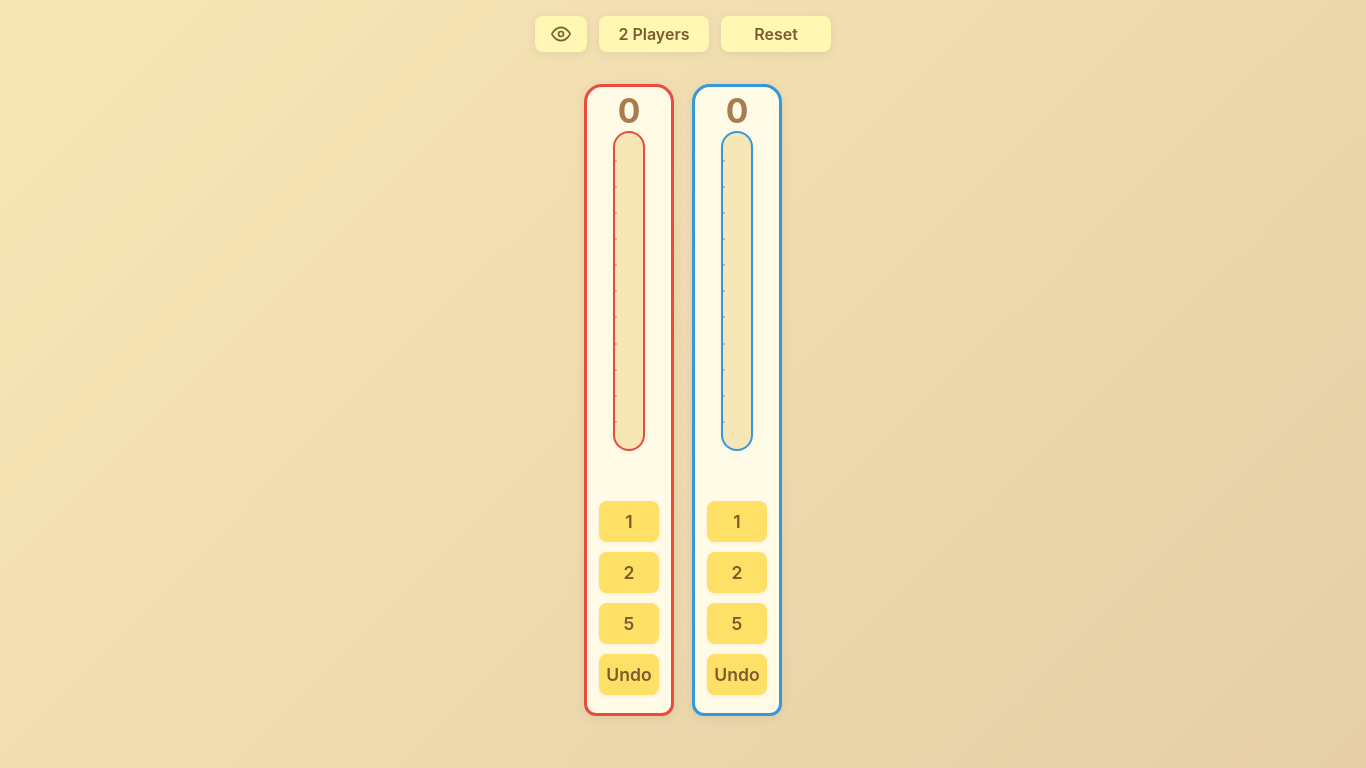
Test: CribbageBoard › reset and undo reset buttons function correctly
The image size is (1366, 768).
Check: the button "Reset" is shown, box [721, 16, 831, 52]
// Advance score to commit a batch
Step 1. Click the 1st button "5" → (629, 624), box [599, 603, 659, 644]
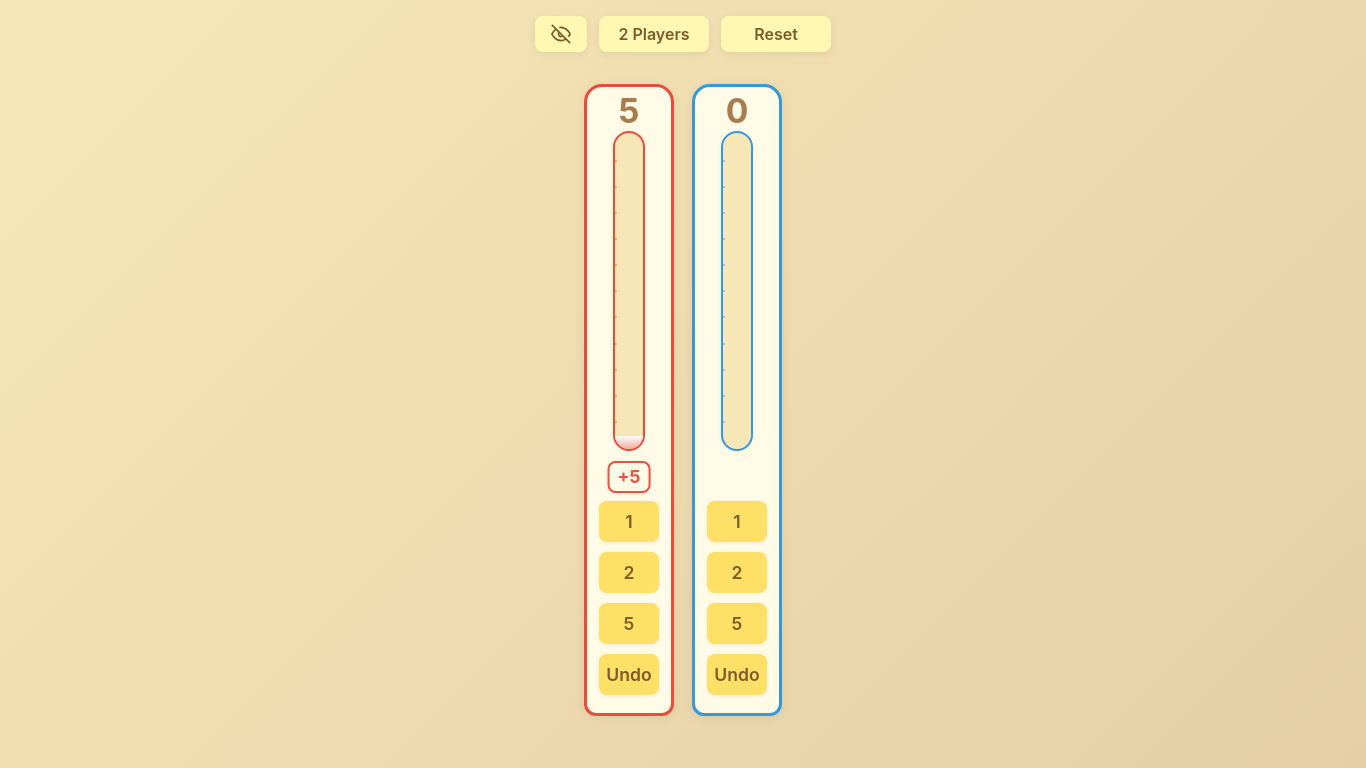
Step 2. Click the text "+5" → (629, 477), box [608, 461, 650, 493]
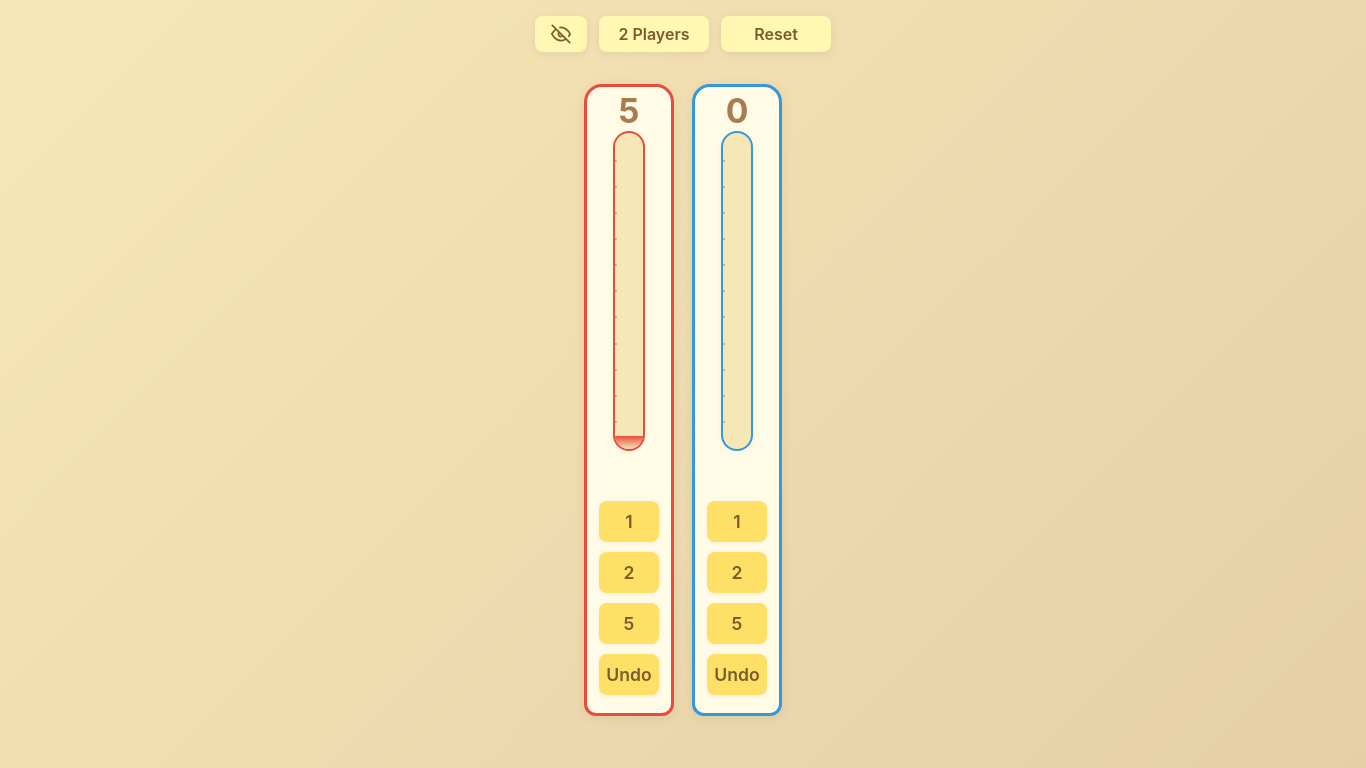
Check: the text "5" is shown, box [618, 99, 639, 123]
// Click Reset
Step 3. Click the button "Reset" → (776, 34), box [721, 16, 831, 52]
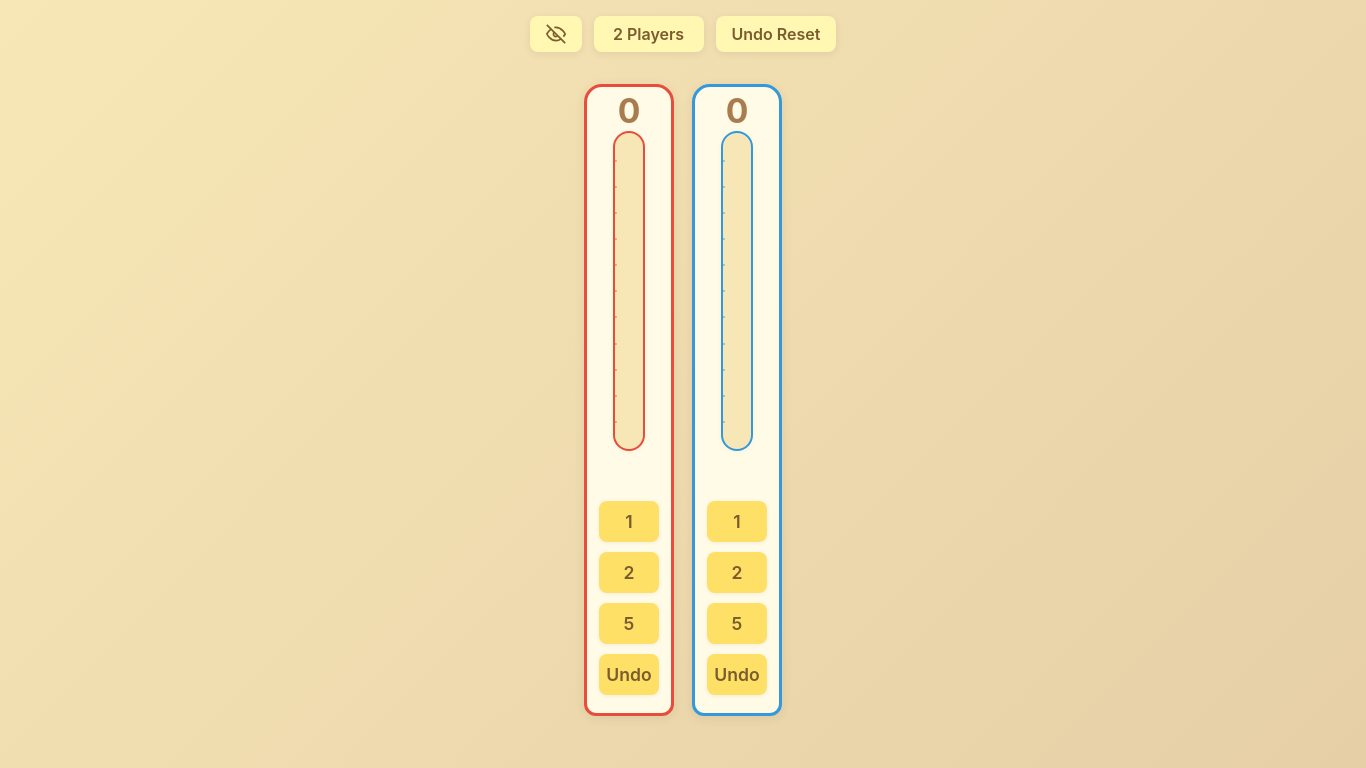
Check: the button "Undo Reset" is shown
// Click Undo Reset
Step 4. Click the button "Undo Reset" → (776, 34), box [716, 16, 836, 52]
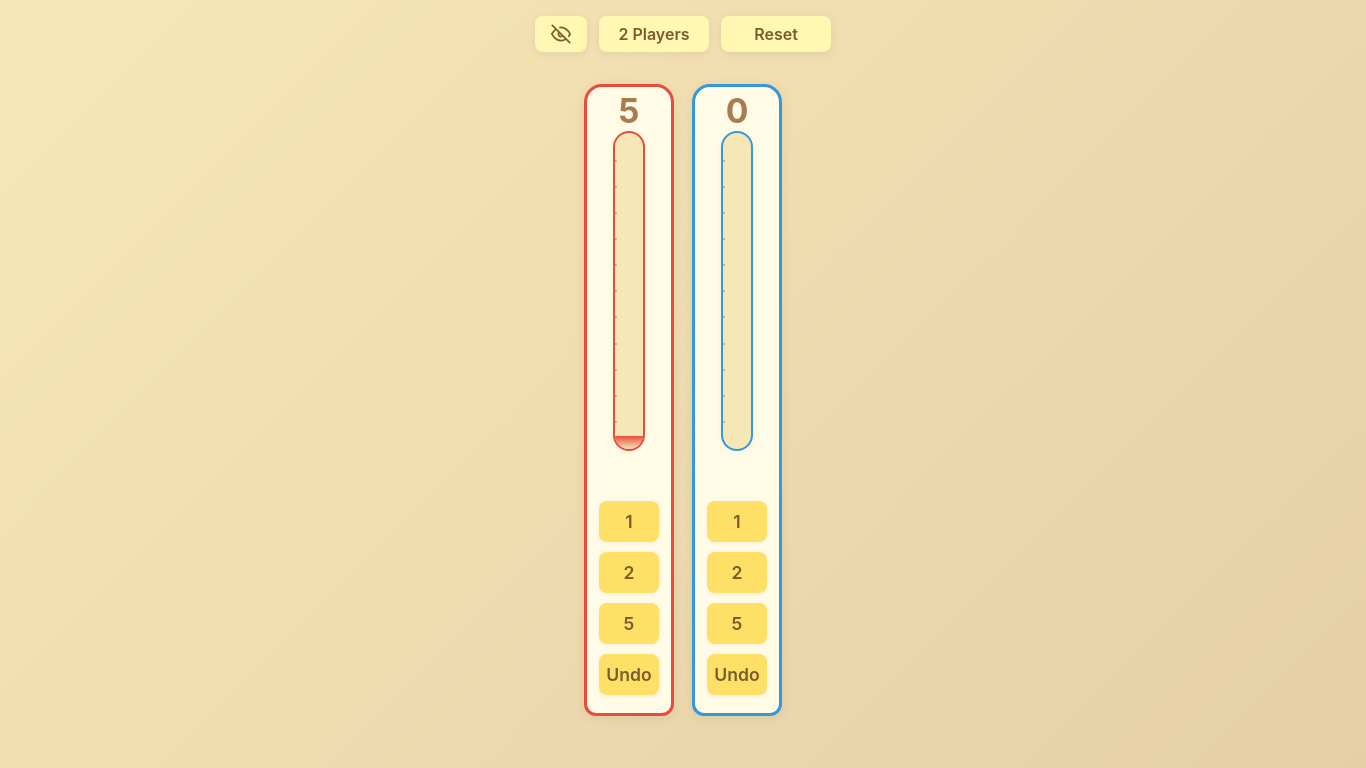
Check: the button "Reset" is shown, box [721, 16, 831, 52]
Check: the text "5" is shown, box [618, 99, 639, 123]
